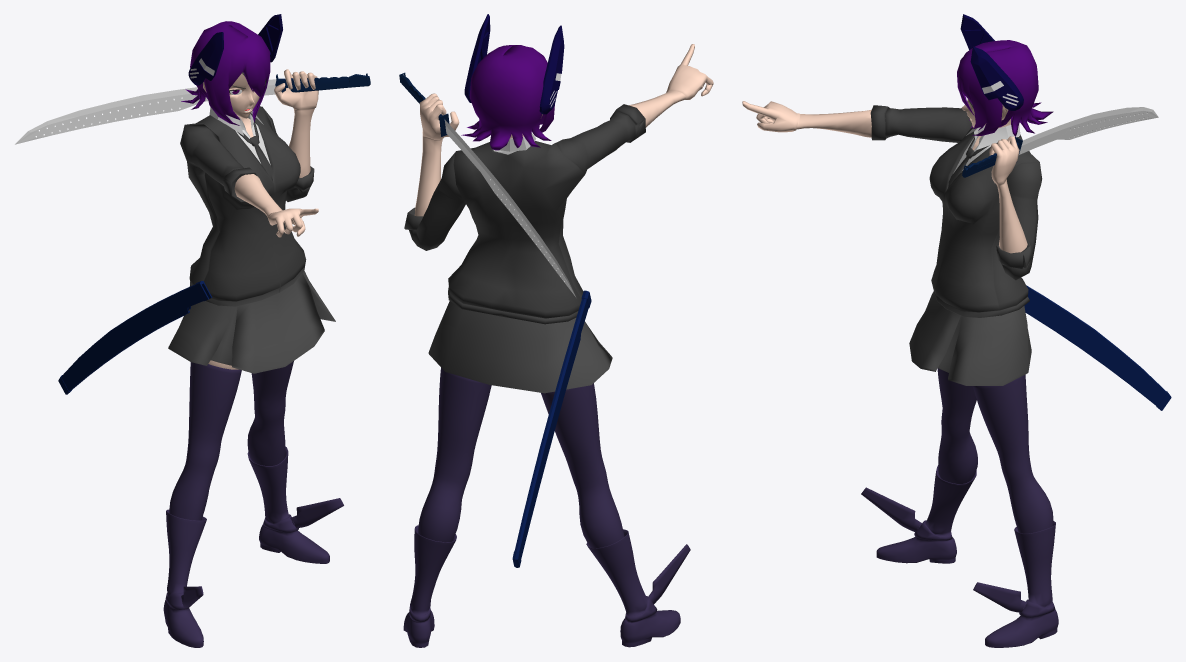
File: light-cruiser-tenryuu.obj
3 renders of one model, left to right at view 1: azimuth 30°, elevation 25°; view 2: azimuth 150°, elevation 25°; view 3: azimuth 270°, elevation 25°, orthographic. The views are drawn at different scales.
Parts seen in each view (by area): view 1: 3DSMesh_13_6, 3DSMesh_1_1, 3DSMesh_15_7, 3DSMesh_10_4, 3DSMesh_2_1, 3DSMesh_20_10, 3DSMesh_18_9, 3DSMesh_11_5, 3DSMesh_19_9, 3DSMesh_7_2, 3DSMesh_3_1; view 2: 3DSMesh_1_1, 3DSMesh_13_6, 3DSMesh_15_7, 3DSMesh_10_4, 3DSMesh_2_1, 3DSMesh_20_10, 3DSMesh_11_5, 3DSMesh_18_9, 3DSMesh_19_9; view 3: 3DSMesh_13_6, 3DSMesh_1_1, 3DSMesh_15_7, 3DSMesh_2_1, 3DSMesh_10_4, 3DSMesh_20_10, 3DSMesh_11_5, 3DSMesh_18_9, 3DSMesh_3_1.
Boxes of the visible parts, x1,y1,x2,y2 form: 3DSMesh_13_6: [163, 361, 343, 647]; 3DSMesh_1_1: [180, 106, 314, 306]; 3DSMesh_15_7: [168, 271, 335, 373]; 3DSMesh_10_4: [181, 21, 270, 125]; 3DSMesh_2_1: [234, 69, 318, 237]; 3DSMesh_20_10: [58, 281, 212, 394]; 3DSMesh_18_9: [15, 79, 276, 144]; 3DSMesh_11_5: [188, 14, 282, 85]; 3DSMesh_19_9: [275, 73, 370, 92]; 3DSMesh_7_2: [203, 73, 259, 137]; 3DSMesh_3_1: [209, 107, 270, 164]; 3DSMesh_1_1: [404, 104, 645, 324]; 3DSMesh_13_6: [403, 367, 690, 647]; 3DSMesh_15_7: [428, 301, 612, 393]; 3DSMesh_10_4: [461, 45, 554, 150]; 3DSMesh_2_1: [414, 44, 713, 216]; 3DSMesh_20_10: [512, 290, 591, 567]; 3DSMesh_11_5: [464, 14, 564, 114]; 3DSMesh_18_9: [444, 119, 575, 296]; 3DSMesh_19_9: [399, 72, 449, 136]; 3DSMesh_13_6: [861, 368, 1058, 647]; 3DSMesh_1_1: [870, 105, 1042, 317]; 3DSMesh_15_7: [909, 291, 1031, 385]; 3DSMesh_2_1: [742, 101, 1027, 253]; 3DSMesh_10_4: [957, 40, 1053, 136]; 3DSMesh_20_10: [1024, 285, 1171, 410]; 3DSMesh_11_5: [960, 14, 1023, 110]; 3DSMesh_18_9: [1019, 107, 1158, 154]; 3DSMesh_3_1: [953, 124, 1020, 173].
Size of the model in its own units: 0.6409 by 1.34 by 0.905.
